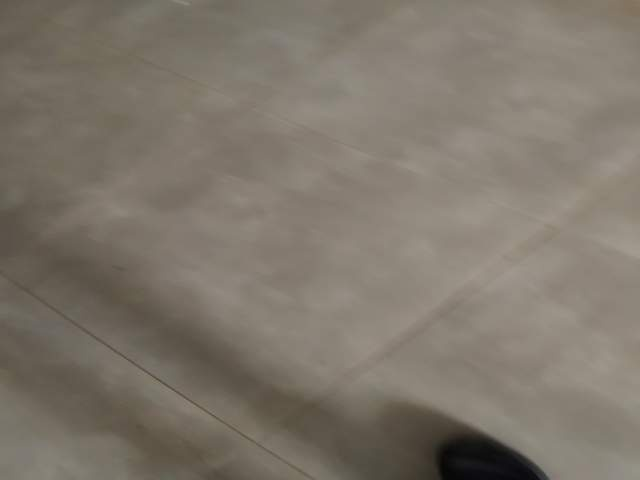pothole: (475, 453, 617, 480)
